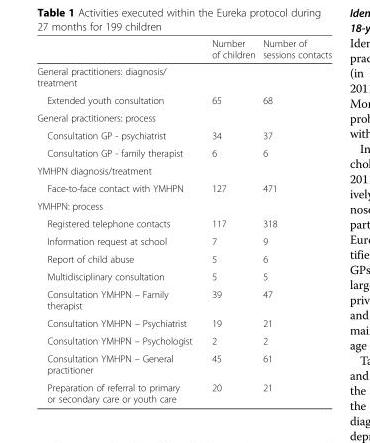table: (36, 37, 331, 404)
table column: (36, 37, 201, 404), (258, 37, 331, 404), (201, 37, 258, 404)
table column header: (36, 37, 331, 62)
table projected row header: (36, 62, 331, 91), (36, 108, 331, 126), (36, 161, 331, 179), (36, 196, 331, 214)
table row: (36, 62, 331, 91), (36, 285, 331, 314), (36, 349, 331, 378), (36, 378, 331, 404), (36, 37, 331, 62), (36, 108, 331, 126), (36, 143, 331, 161), (36, 161, 331, 179), (36, 196, 331, 214), (36, 214, 331, 232), (36, 249, 331, 267), (36, 267, 331, 285), (36, 331, 331, 349), (36, 91, 331, 108), (36, 126, 331, 143), (36, 179, 331, 196), (36, 232, 331, 249), (36, 314, 331, 331)
